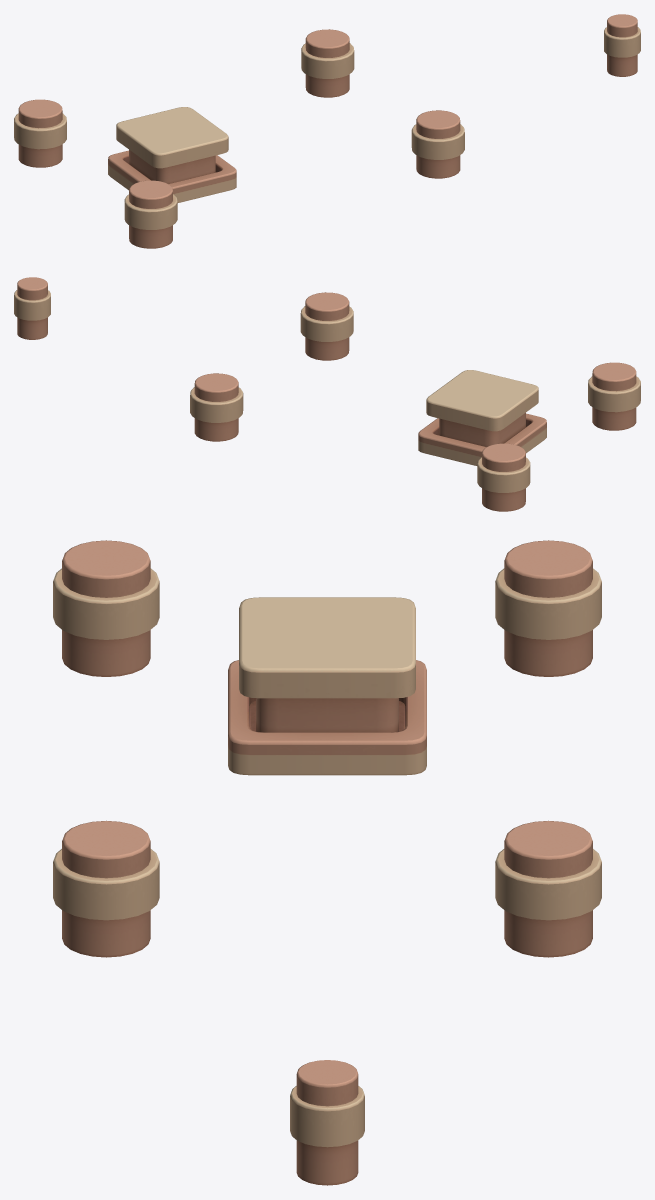
The model's file is Props.fbx.
3 renders of one model, top to bottom at view 1: azimuth 30°, elevation 25°; view 2: azimuth 150°, elevation 25°; view 3: azimuth 270°, elevation 25°, orthographic. The views are drawn at different scales.
Parts seen in each view (by area): view 1: Box, Cylinder (1), Cylinder (3), Cylinder (2), Cylinder, Cylinder-2; view 2: Box, Cylinder (3), Cylinder (1), Cylinder, Cylinder (2), Cylinder-2; view 3: Box, Cylinder (1), Cylinder (3), Cylinder, Cylinder (2), Cylinder-2.
Part boxes in pixels (bbox=[...]): Box: bbox=[108, 107, 236, 202]; Cylinder (1): bbox=[411, 110, 464, 178]; Cylinder (3): bbox=[301, 29, 354, 97]; Cylinder (2): bbox=[14, 99, 66, 167]; Cylinder: bbox=[124, 180, 177, 248]; Cylinder-2: bbox=[604, 14, 640, 76]; Box: bbox=[418, 370, 546, 465]; Cylinder (3): bbox=[190, 373, 243, 441]; Cylinder (1): bbox=[300, 292, 353, 360]; Cylinder: bbox=[588, 362, 640, 430]; Cylinder (2): bbox=[477, 443, 530, 511]; Cylinder-2: bbox=[14, 277, 50, 339]; Box: bbox=[228, 597, 426, 775]; Cylinder (1): bbox=[53, 820, 159, 957]; Cylinder (3): bbox=[495, 820, 601, 957]; Cylinder: bbox=[53, 540, 159, 676]; Cylinder (2): bbox=[495, 540, 601, 676]; Cylinder-2: bbox=[290, 1060, 364, 1185].
Bounding box in the file's own units: 59.1 × 5 × 24.82.
